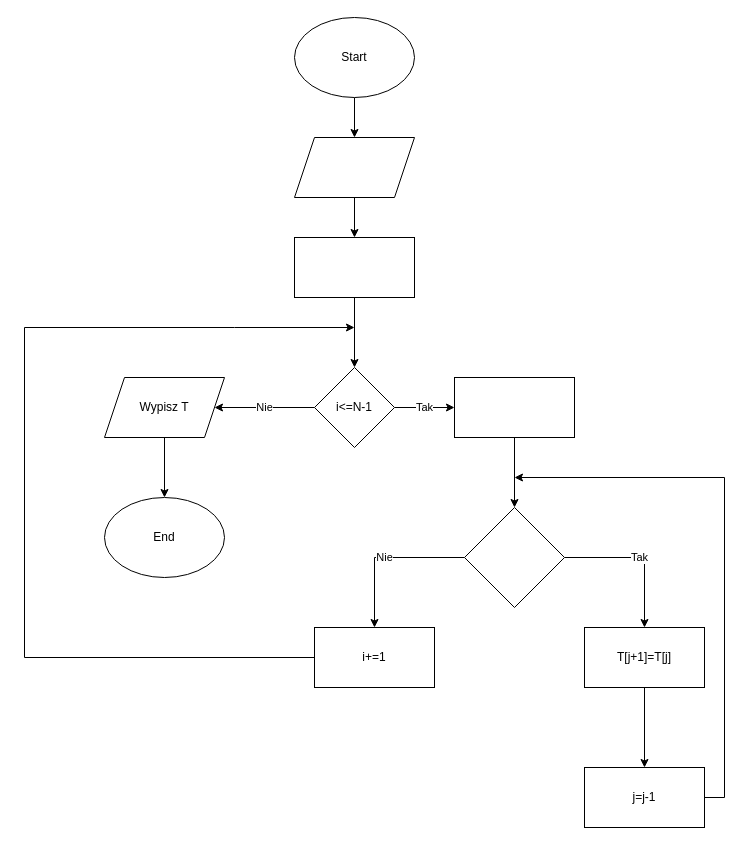
Image size: 750x845. Some labels were removed from this diagram. Each missing label, with the centre of its shape:
element=T[i] j=i-1: (x=514, y=407)
i=1: (x=354, y=267)
j>=0 T[j]>element: (x=514, y=557)
Podaj T[N]: (x=354, y=167)
